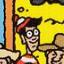waldo: (13, 15, 42, 52)
